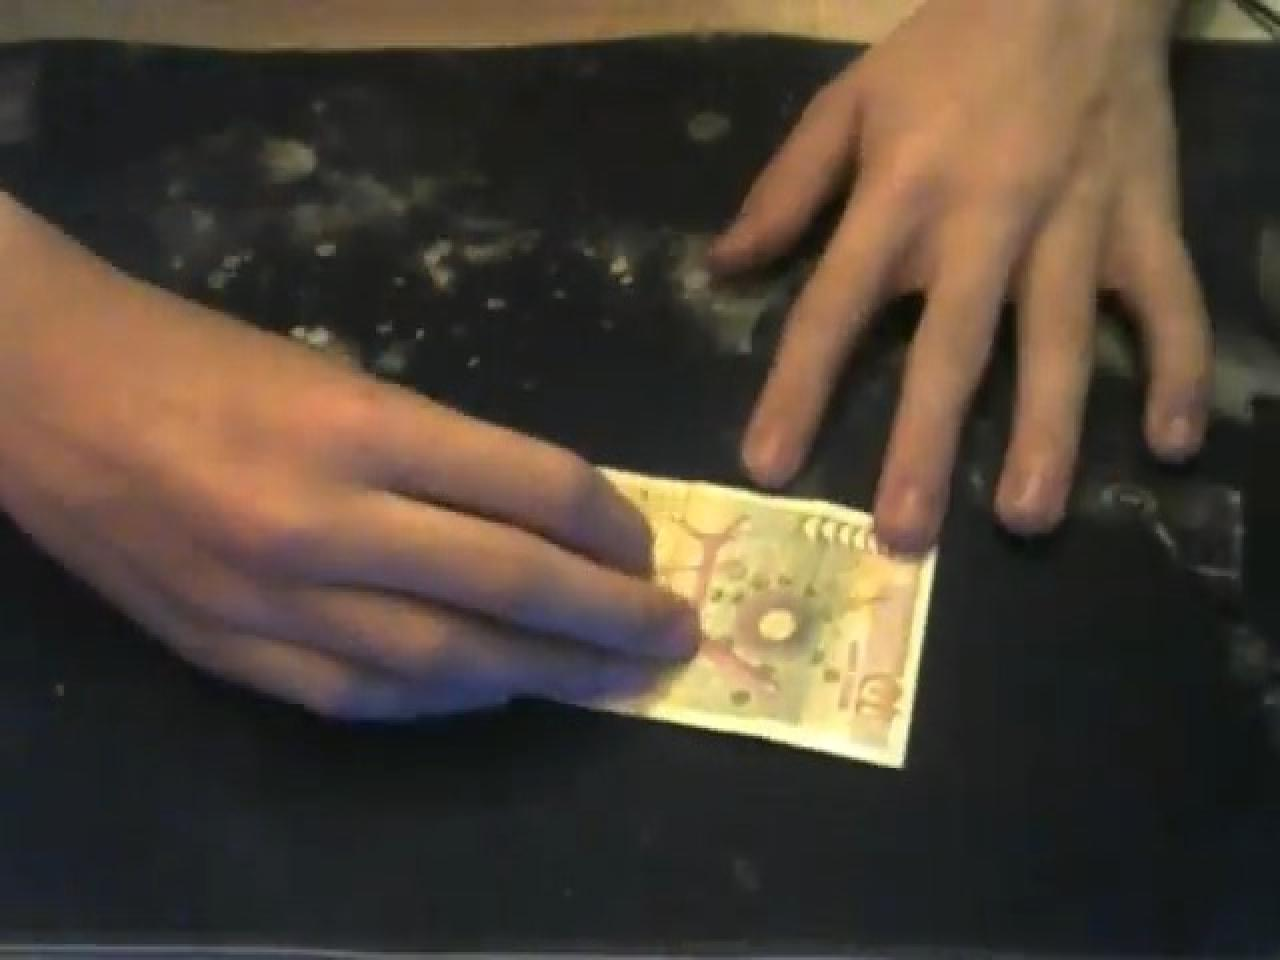10leva: (602, 469, 934, 768)
